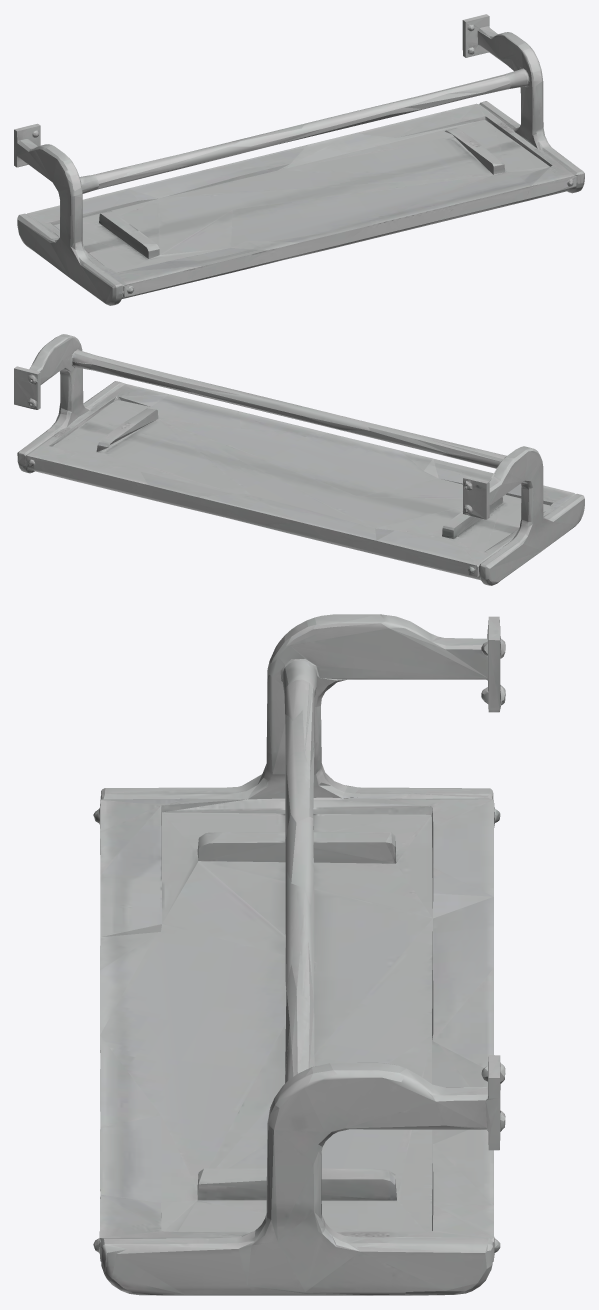
Rendered from train_luggage_rack.glb.
The picture shows the model from 3 angles, top to bottom: view 1: azimuth 30°, elevation 25°; view 2: azimuth 150°, elevation 25°; view 3: azimuth 270°, elevation 25°; orthographic projection. The views are drawn at different scales.
Size of the model in its own units: 1.9 by 0.4339 by 0.7175.
1 material, 1 textured.
